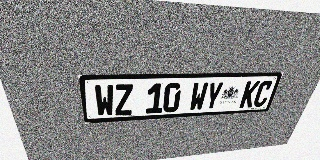0: (162, 83, 182, 113)
1: (146, 83, 165, 114)
C: (252, 80, 274, 107)
K: (239, 81, 261, 108)
W: (94, 84, 115, 117), (188, 82, 209, 111)
Y: (203, 82, 224, 110)
Z: (114, 84, 133, 116)
